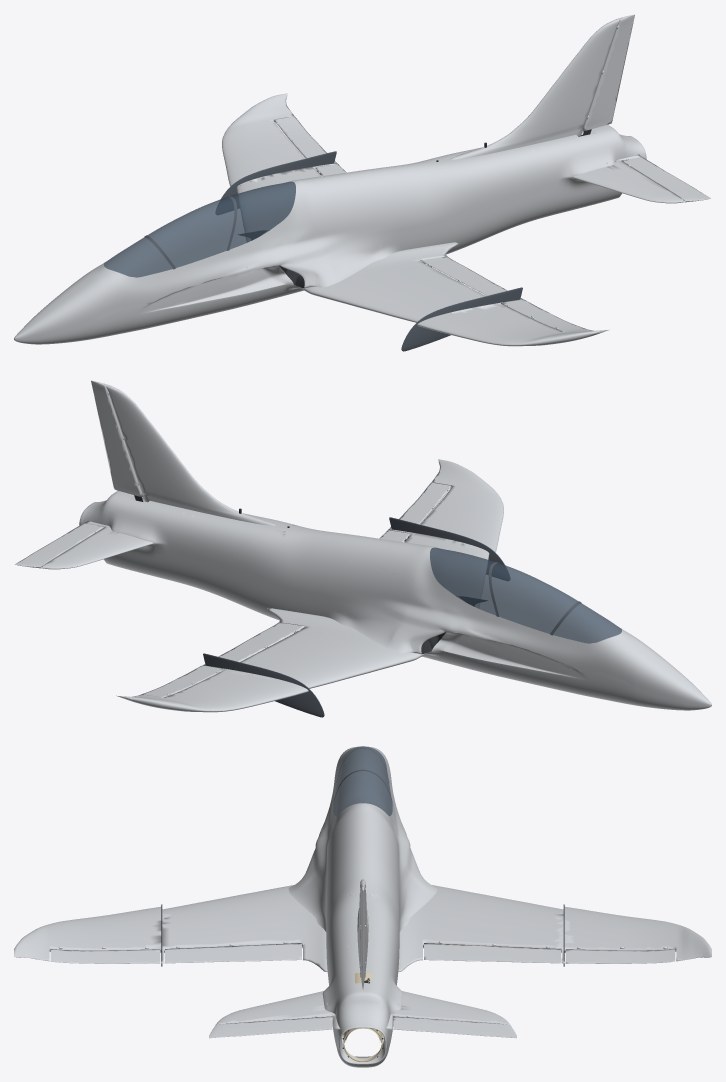
File: airplane.glb
The picture shows the model from 3 angles, top to bottom: view 1: azimuth 30°, elevation 25°; view 2: azimuth 150°, elevation 25°; view 3: azimuth 270°, elevation 25°; orthographic projection. The views are drawn at different scales.
Visible parts, largest first — view 1: AvantiSJet; view 2: AvantiSJet; view 3: AvantiSJet.
Boxes of the visible parts, x1,y1,x2,y2 form: AvantiSJet: [14, 14, 711, 351]; AvantiSJet: [14, 380, 711, 717]; AvantiSJet: [14, 746, 711, 1067].
Size of the model in its own units: 4.45 by 1.29 by 3.97.
